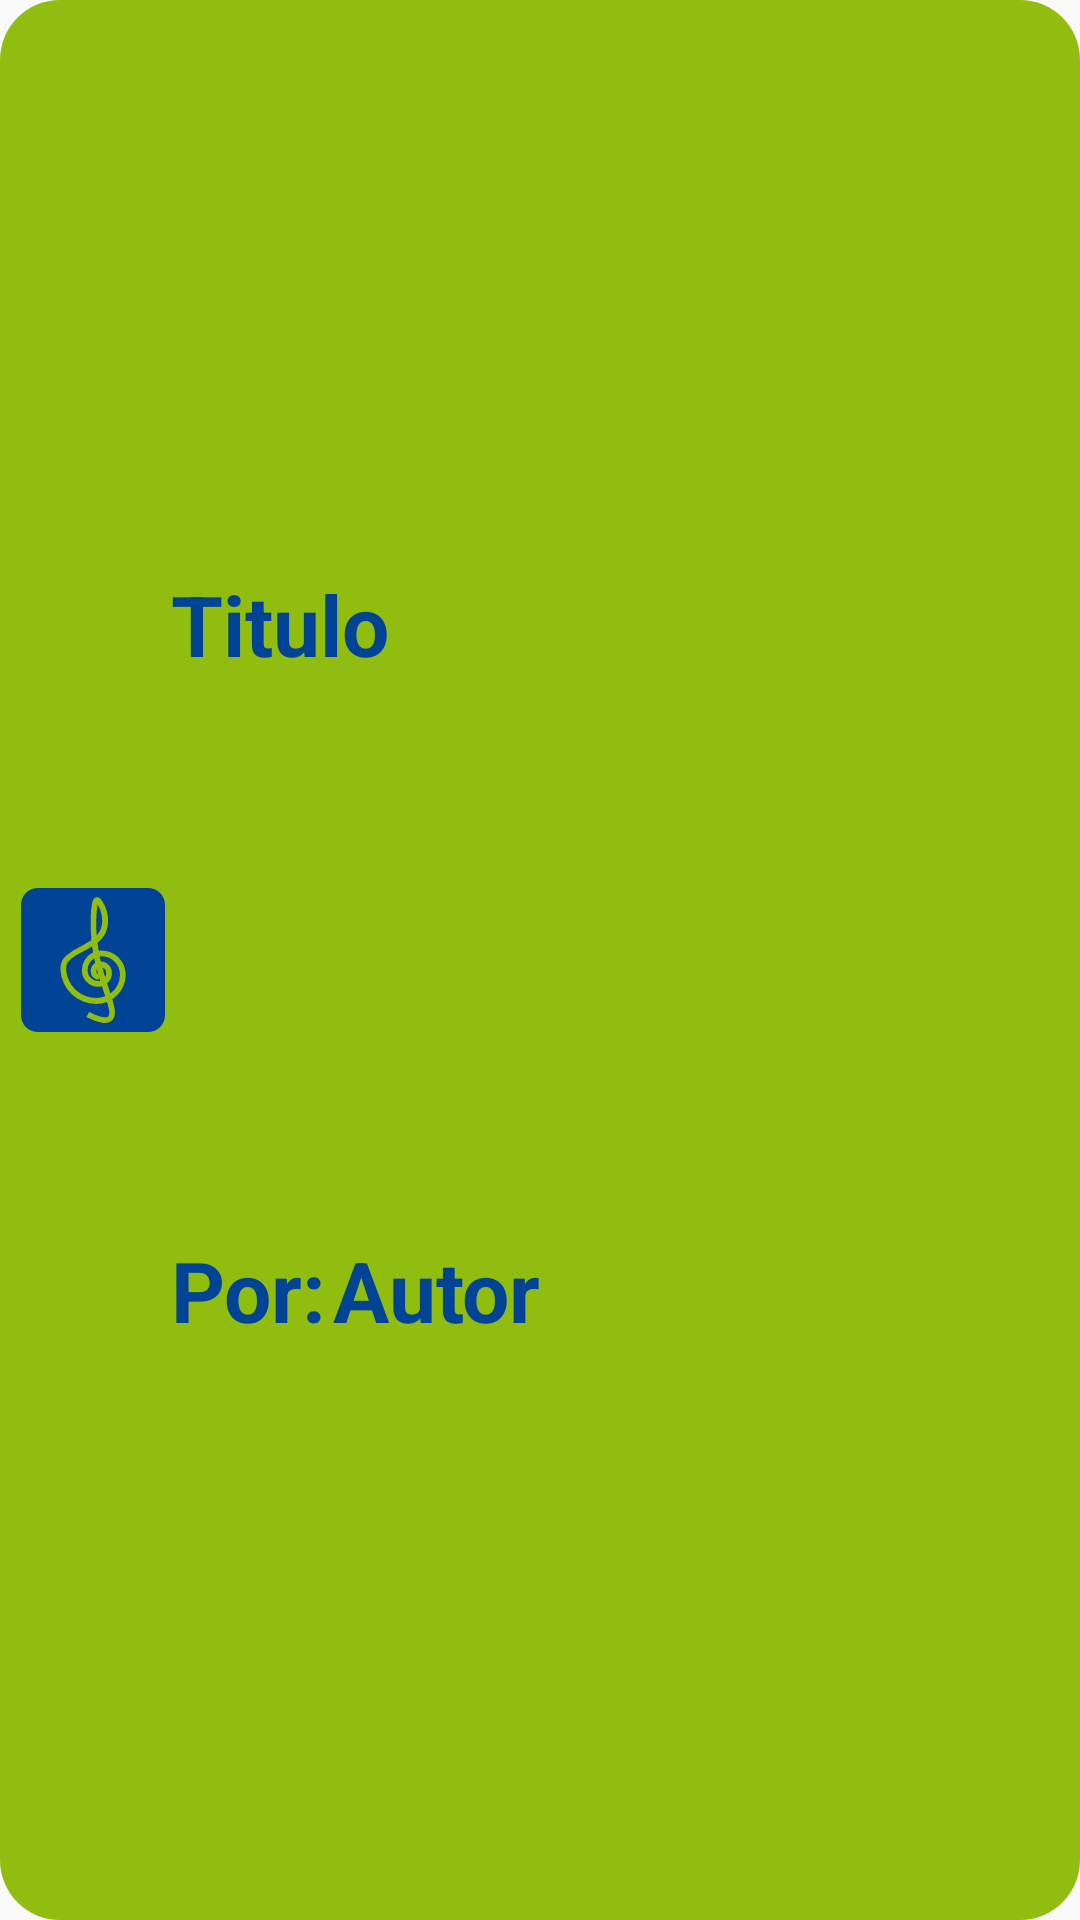

Screen size 1080px×1920px. Icon name, then its center in pixels as (x=x, y=y):
archivo partitura: (x=93, y=960)
